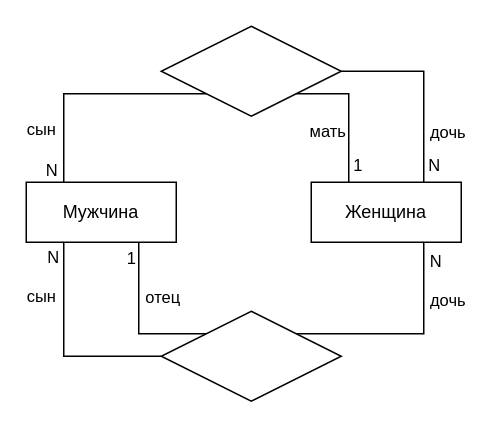
The diagram is 491 pixels wide and 428 high, and some of its shapes have lost their labels. The box of each missing label's shape, as (x1, y1, x2, y2) in pixels:
является матерью: (160, 25, 341, 116)
является отцом: (160, 310, 341, 401)
